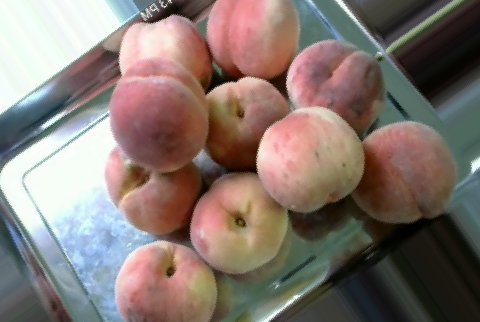Peach: (111, 57, 208, 174), (255, 109, 363, 212), (186, 173, 290, 276), (351, 119, 453, 224), (105, 135, 203, 233), (281, 39, 382, 125), (115, 241, 221, 320), (201, 76, 289, 168), (203, 0, 300, 80), (117, 15, 211, 94)
